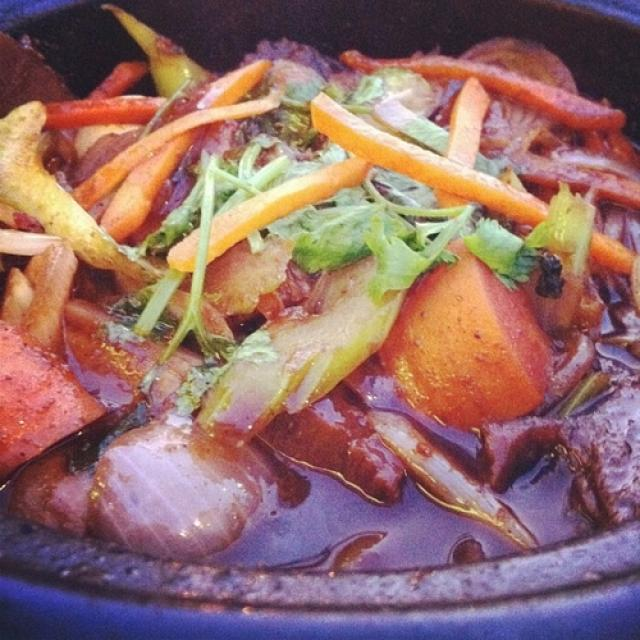汤锅炖物: (11, 32, 634, 602)
